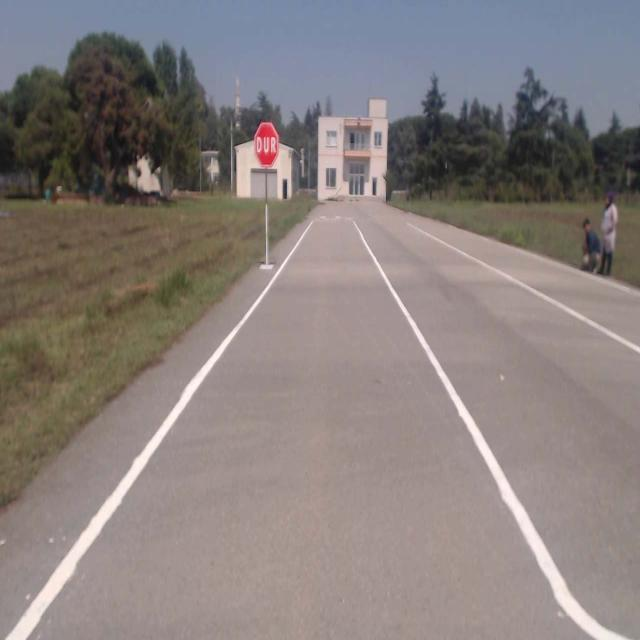dur: (255, 122, 279, 167)
